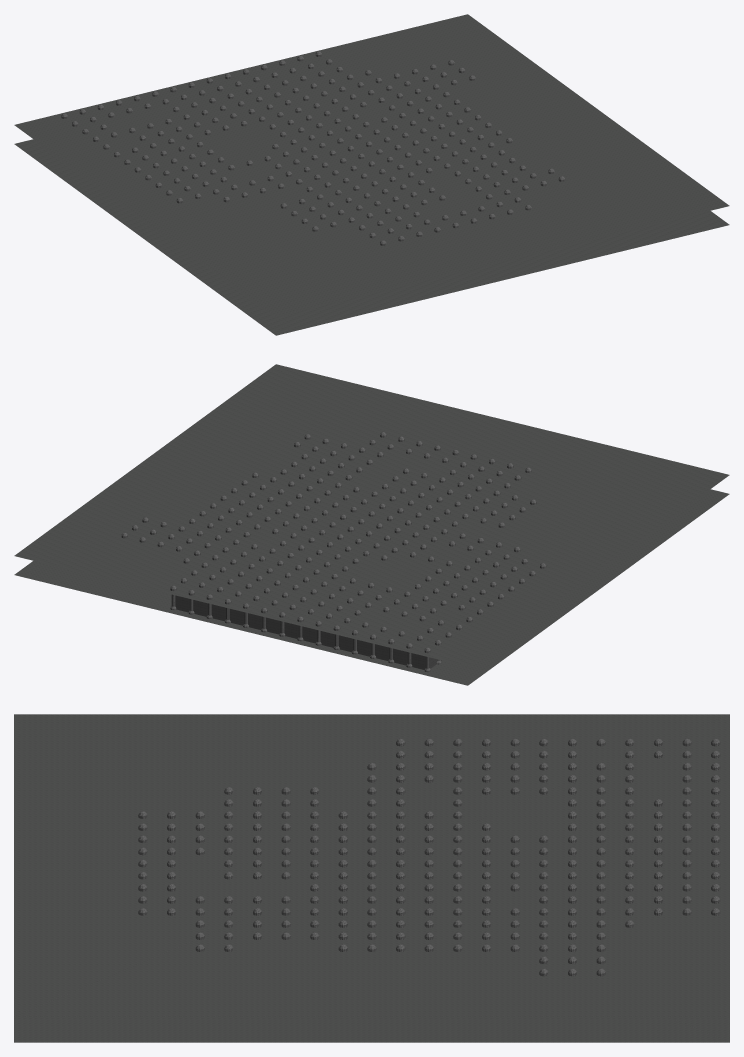
The model's file is maze.fbx.
3 views of the same model, one above another, from view 1: azimuth 30°, elevation 25°; view 2: azimuth 150°, elevation 25°; view 3: azimuth 270°, elevation 25° (orthographic). The views are drawn at different scales.
Parts seen in each view (by area): view 1: Plane; view 2: Plane; view 3: Plane.
Part boxes in pixels (box(x1,y1,x2,y2)): Plane: box(14, 14, 729, 335); Plane: box(14, 364, 729, 685); Plane: box(14, 714, 729, 1042).
Size of the model in its own units: 15000 by 820 by 15000.
